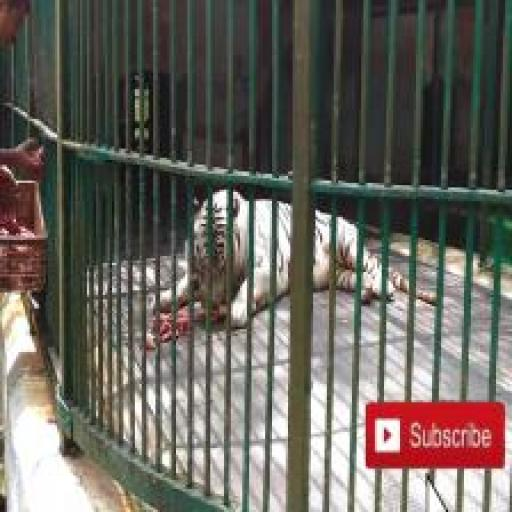Tiger: (146, 181, 444, 336)
